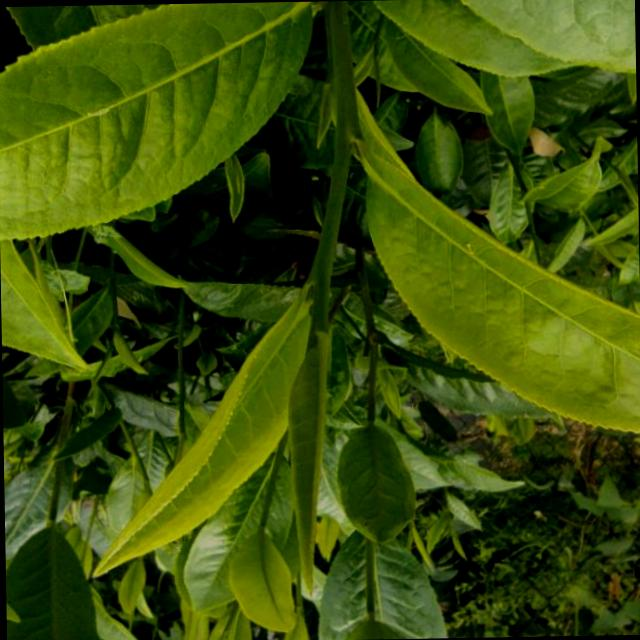Stem: (308, 267, 326, 284)
